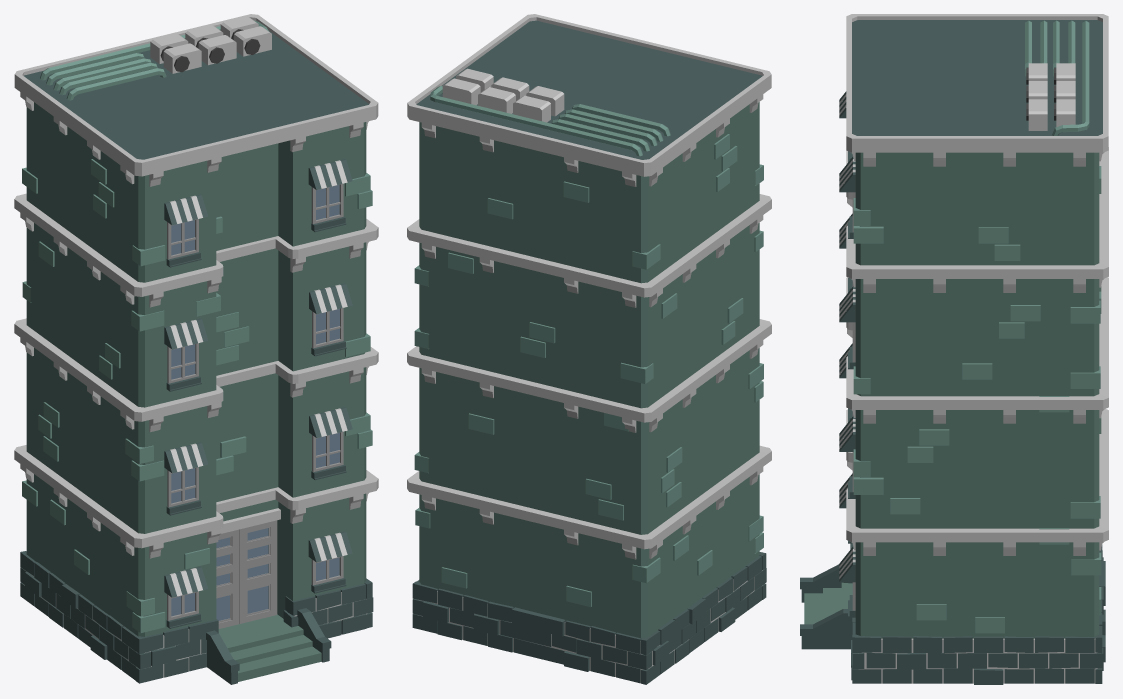
File: 4Story_Center_Mat.glb
The picture shows the model from 3 angles, left to right: view 1: azimuth 30°, elevation 25°; view 2: azimuth 150°, elevation 25°; view 3: azimuth 270°, elevation 25°; orthographic projection. The views are drawn at different scales.
Parts seen in each view (by area): view 1: 4Story_Center_Mat; view 2: 4Story_Center_Mat; view 3: 4Story_Center_Mat.
Boxes of the visible parts, <box> form: 4Story_Center_Mat: <box>14,14,378,684</box>; 4Story_Center_Mat: <box>407,14,771,684</box>; 4Story_Center_Mat: <box>800,14,1108,684</box>.
Size of the model in its own units: 2.42 by 5.09 by 2.53.
